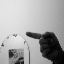g: (25, 30, 62, 61)
